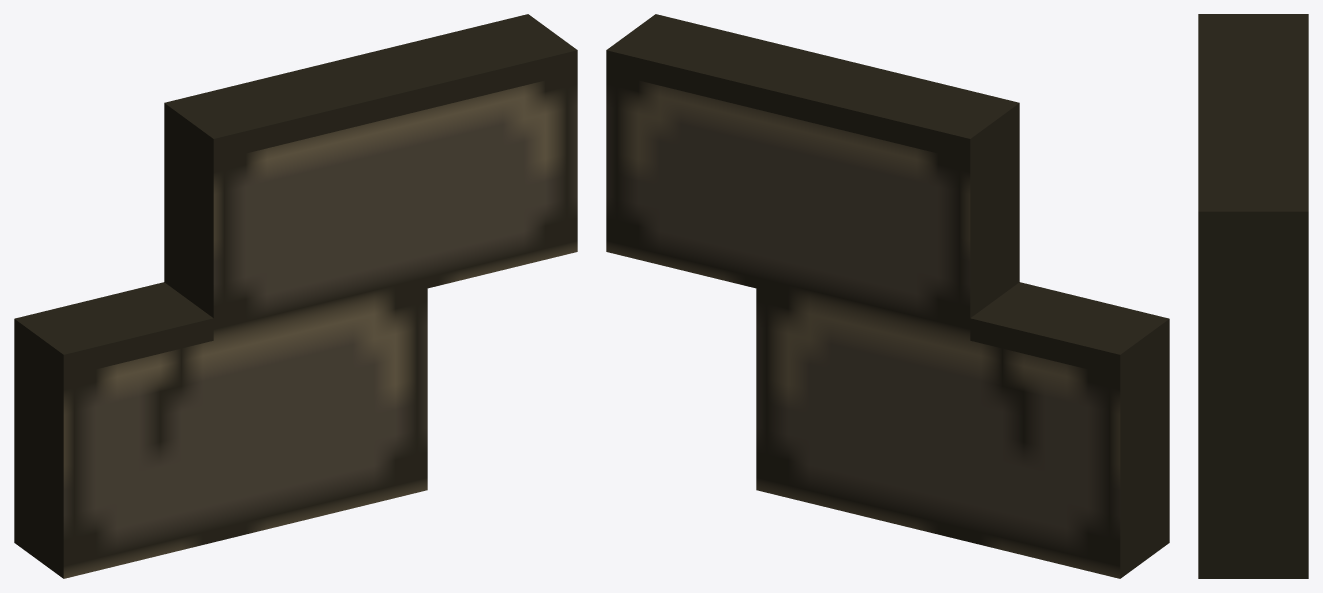
Rendered from Trash2.fbx.
3 renders of one model, left to right at view 1: azimuth 30°, elevation 25°; view 2: azimuth 150°, elevation 25°; view 3: azimuth 270°, elevation 25°, orthographic. The views are drawn at different scales.
Parts seen in each view (by area): view 1: Trash.002; view 2: Trash.002; view 3: Trash.002.
Part boxes in pixels (bbox=[...]): Trash.002: bbox=[14, 14, 577, 578]; Trash.002: bbox=[606, 14, 1169, 578]; Trash.002: bbox=[1198, 14, 1308, 578].
Bounding box in the file's own units: 75 × 56.25 × 12.5.
